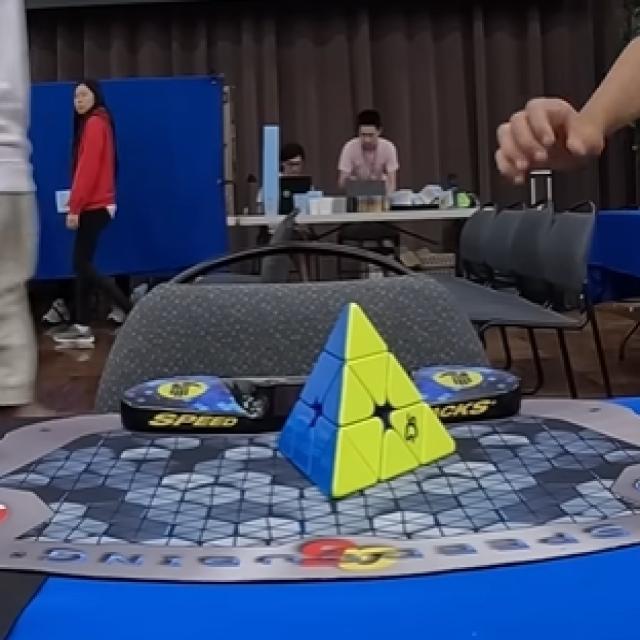Pyraminx: (279, 303, 453, 498)
